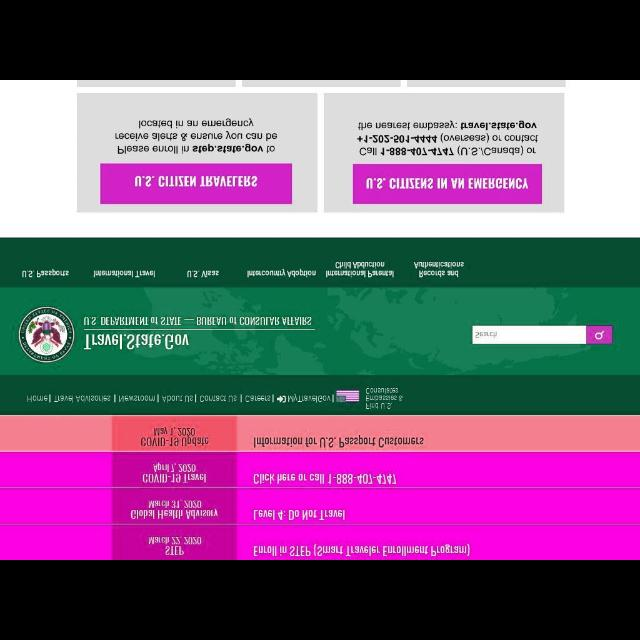backgroundimage: (3, 289, 623, 375)
button: (587, 326, 613, 344)
icon: (595, 330, 605, 340), (276, 396, 286, 402)
image: (17, 307, 74, 363), (336, 390, 360, 402)
input: (473, 326, 587, 344)
multitab: (21, 260, 466, 278), (26, 395, 332, 403)
text: (358, 120, 538, 156), (116, 118, 278, 154), (254, 542, 471, 558), (84, 314, 312, 326), (253, 436, 424, 448), (82, 332, 190, 350), (366, 178, 528, 190), (253, 472, 397, 484), (134, 175, 258, 187), (326, 260, 394, 278), (254, 509, 346, 521), (131, 508, 219, 520), (414, 260, 464, 278), (365, 386, 403, 409), (142, 472, 206, 484), (140, 437, 210, 447), (247, 268, 317, 278), (148, 535, 202, 545), (93, 270, 157, 278), (22, 268, 70, 278), (55, 395, 112, 403), (148, 500, 202, 508), (152, 463, 196, 472), (118, 394, 156, 404), (154, 428, 196, 437), (288, 394, 330, 402), (200, 395, 238, 403), (187, 269, 220, 277), (162, 395, 194, 403), (26, 394, 48, 404), (475, 330, 497, 340), (245, 394, 271, 402), (165, 546, 185, 556)
textbutton: (100, 163, 292, 204), (353, 164, 542, 204)
